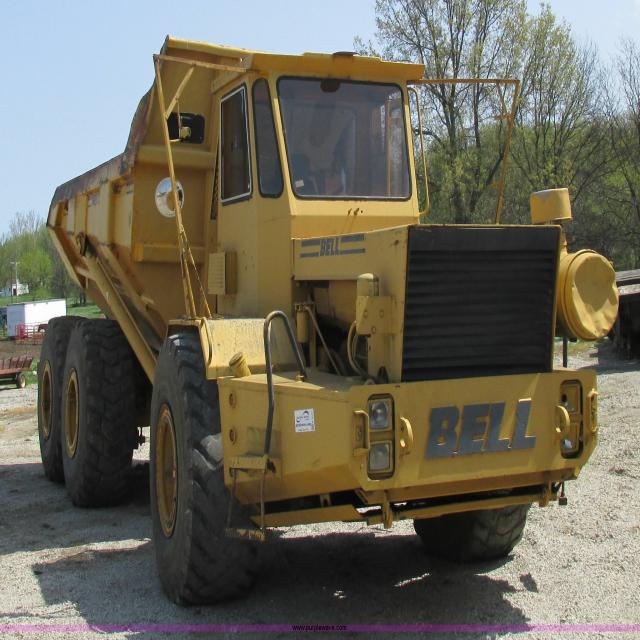dump_truck: (41, 28, 594, 590)
